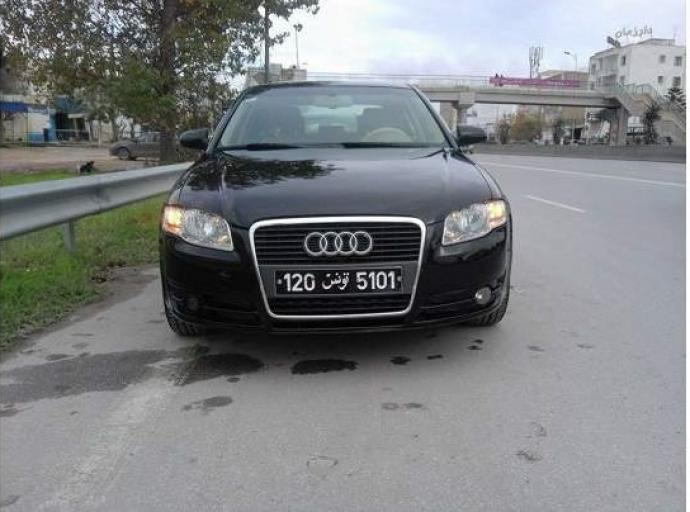LP: (272, 264, 406, 298)
